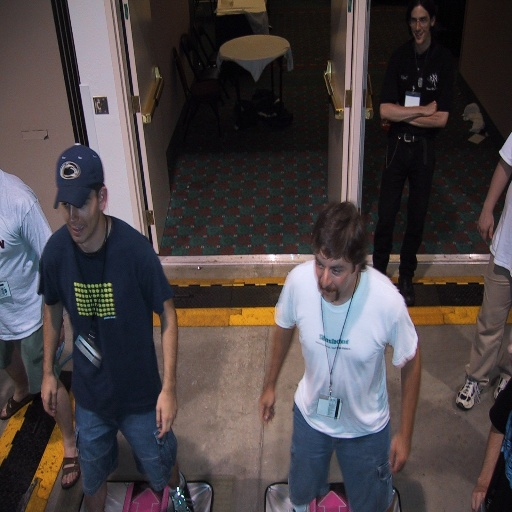hand: (26, 360, 61, 433), (155, 387, 177, 439), (388, 430, 410, 472), (475, 205, 494, 245), (258, 384, 276, 426), (472, 482, 486, 511), (421, 100, 435, 116), (56, 325, 65, 349)
